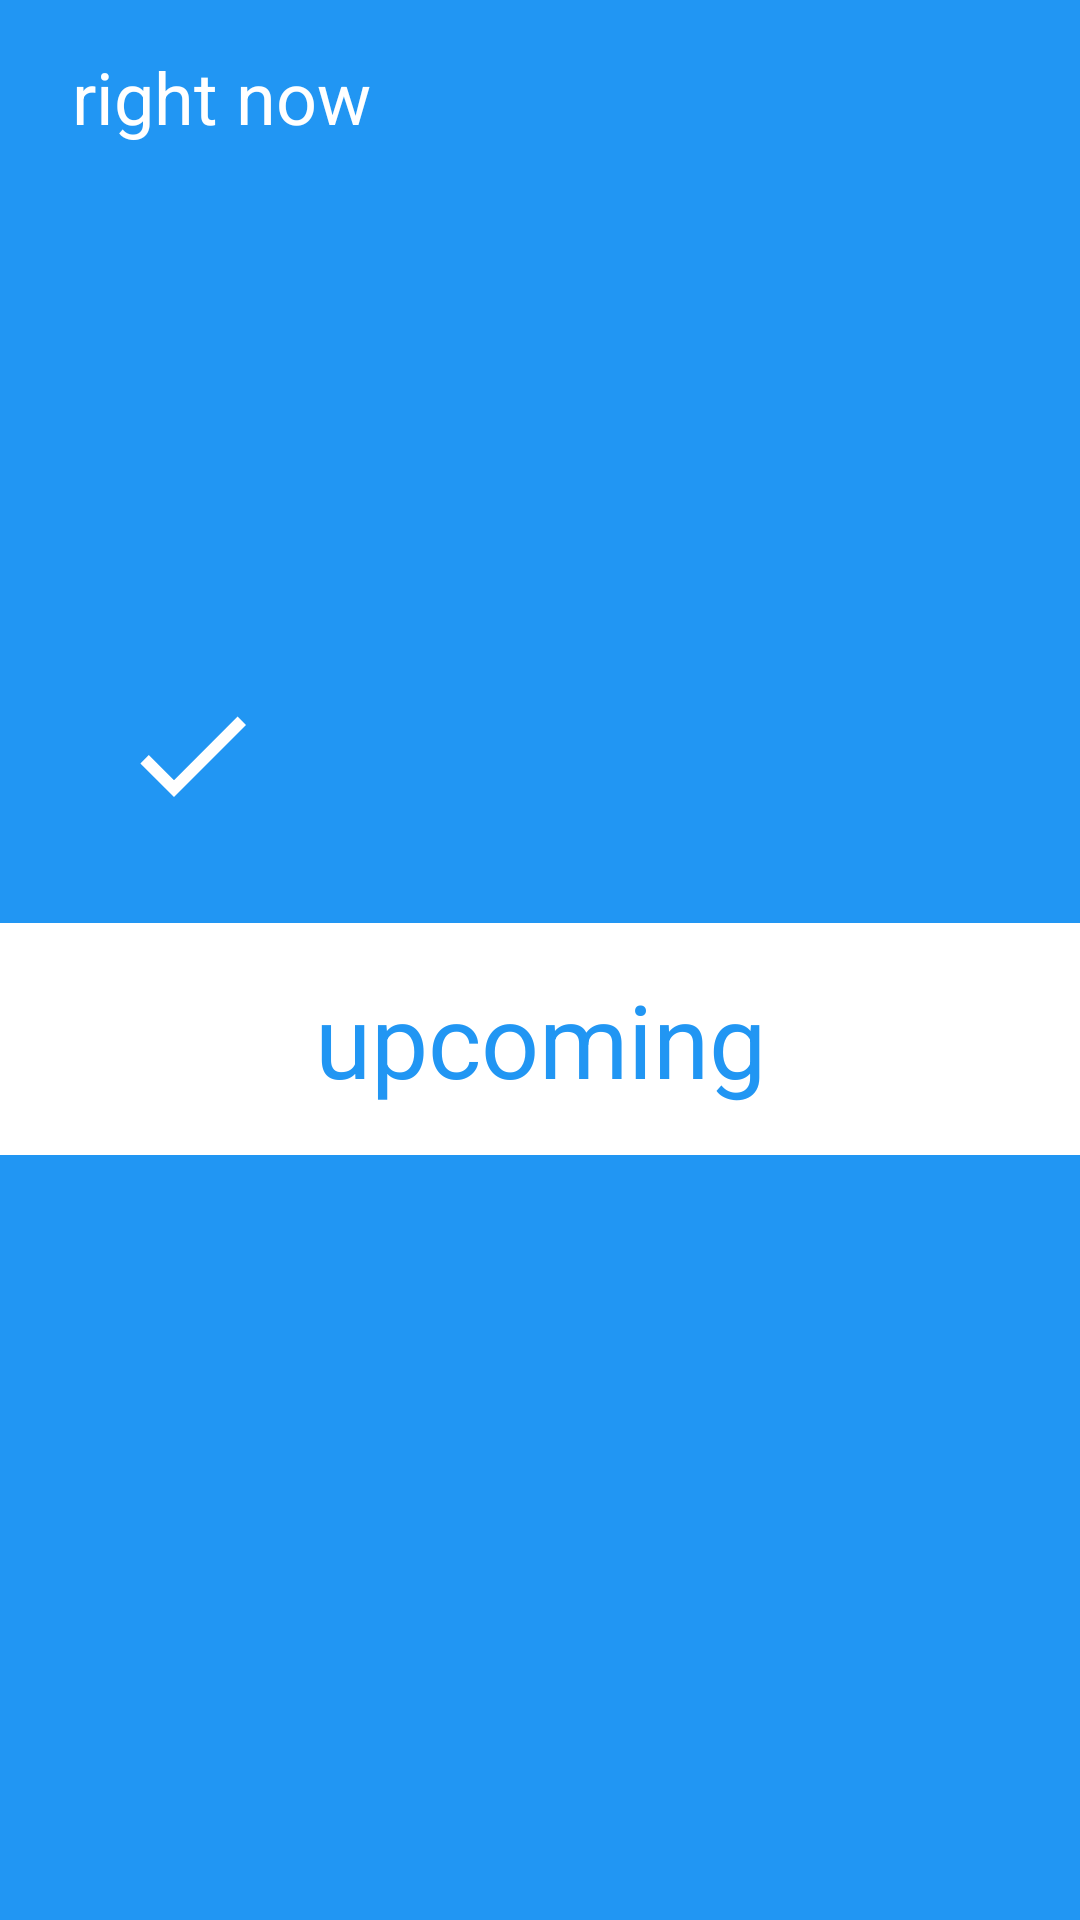

Where to tap for icons on this 1080px x 1920px app screen, as [x,y]:
done: [193,756]
